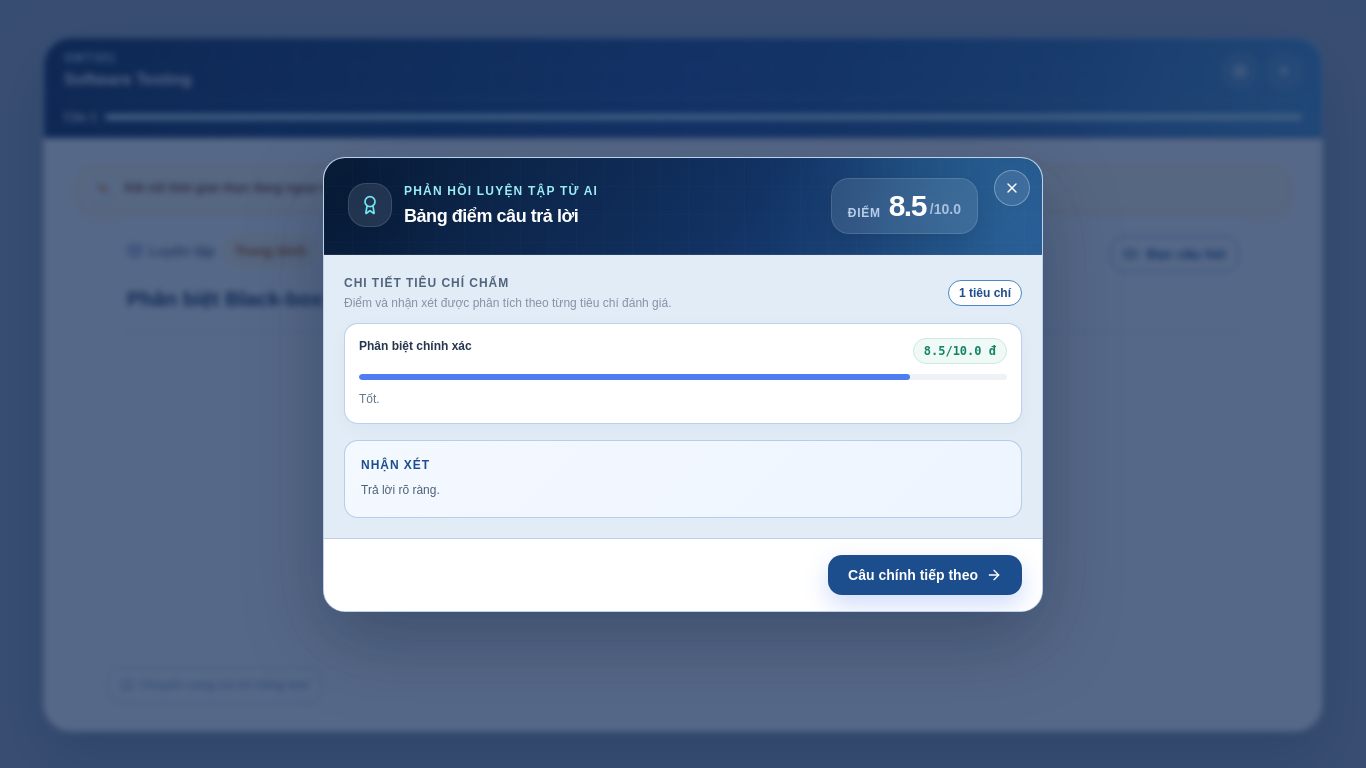
Test: PracticeSessionPage M3 fixes › keeps ScorecardModal open with errorMessage on transient 500 and closes cleanly on X without looping getNextQuestion
Expected: the heading "Bảng điểm câu trả lời" is shown, [404, 205, 598, 228]
Click the button "Câu chính tiếp theo" at (925,574), box [828, 554, 1022, 594]
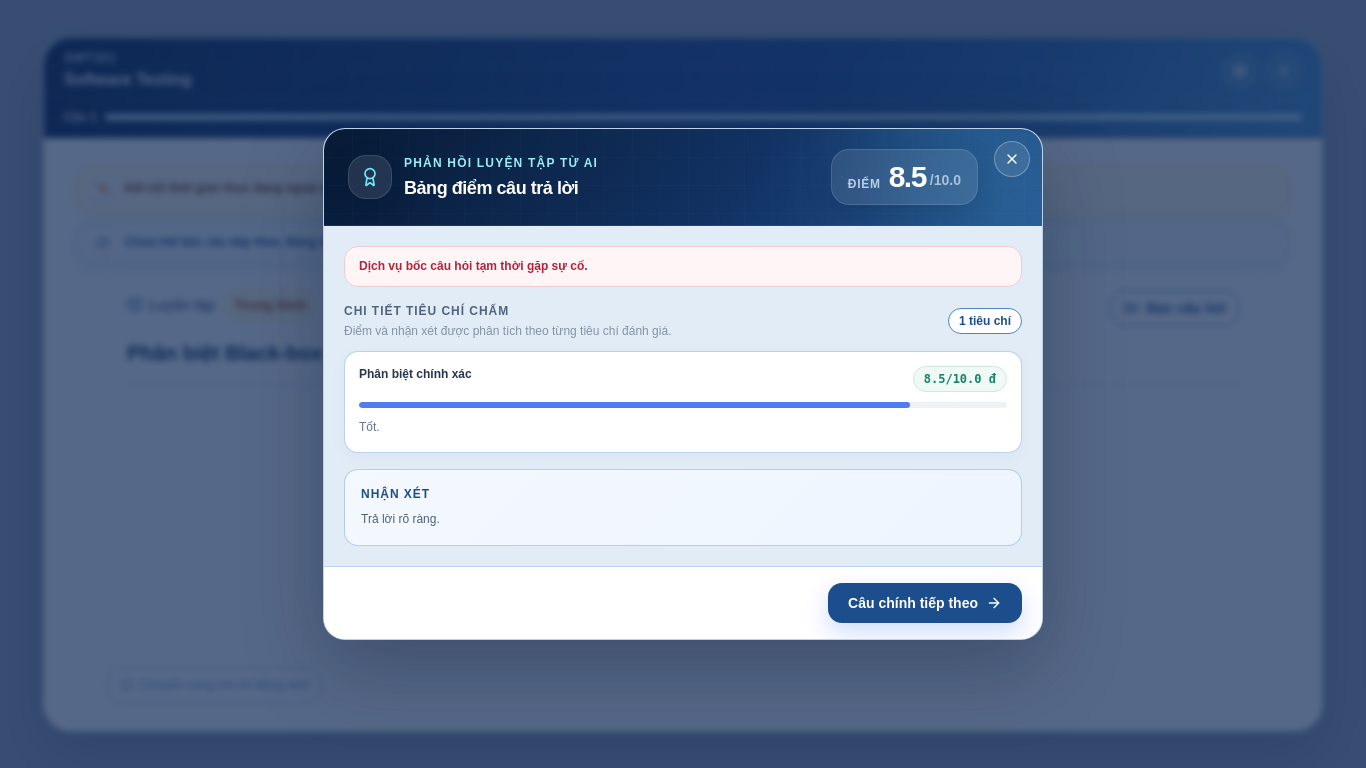
Expected: the heading "Bảng điểm câu trả lời" is shown, [404, 176, 598, 199]
Expected: the text "Dịch vụ bốc câu hỏi tạm thời gặp sự cố." is shown, [344, 246, 1022, 287]
Click the button named "Đóng bảng điểm" at (1012,159), box [994, 141, 1030, 177]
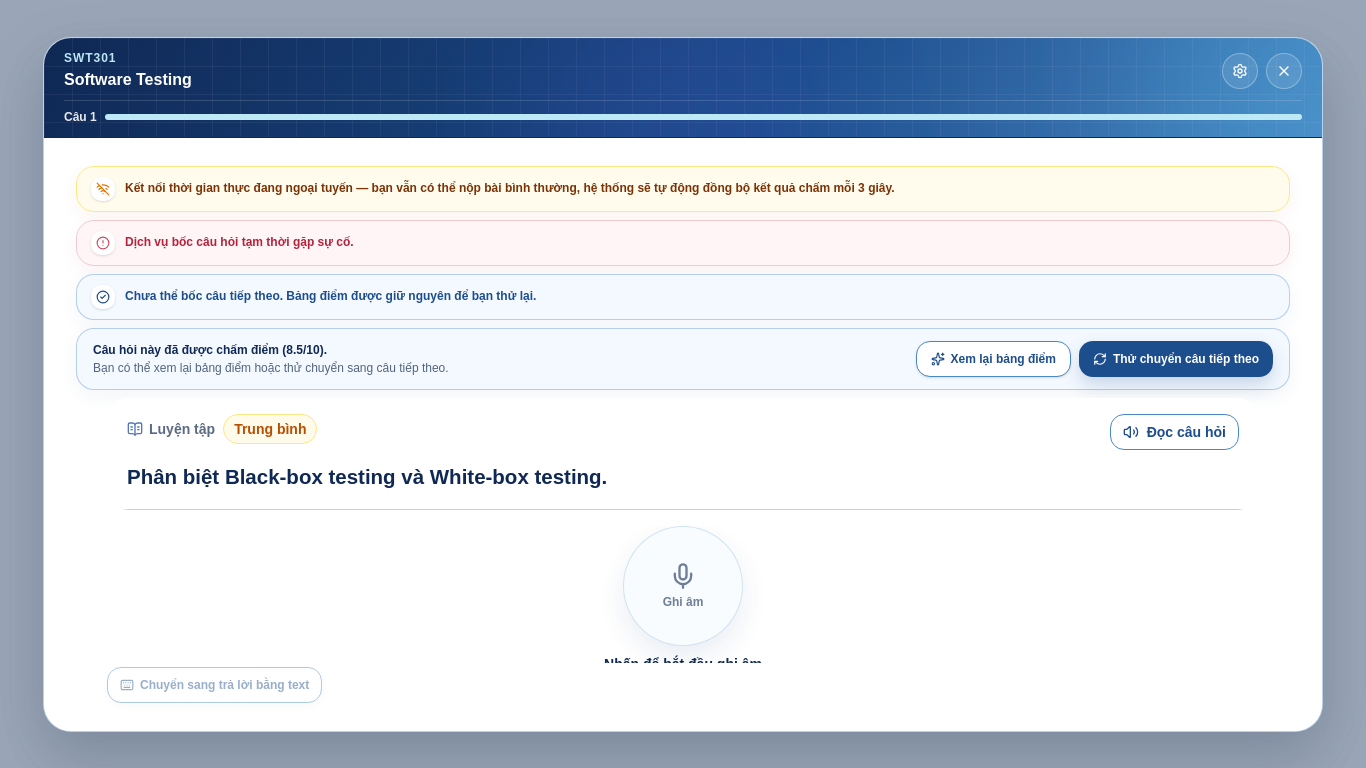
Expected: the heading "Bảng điểm câu trả lời" is gone
